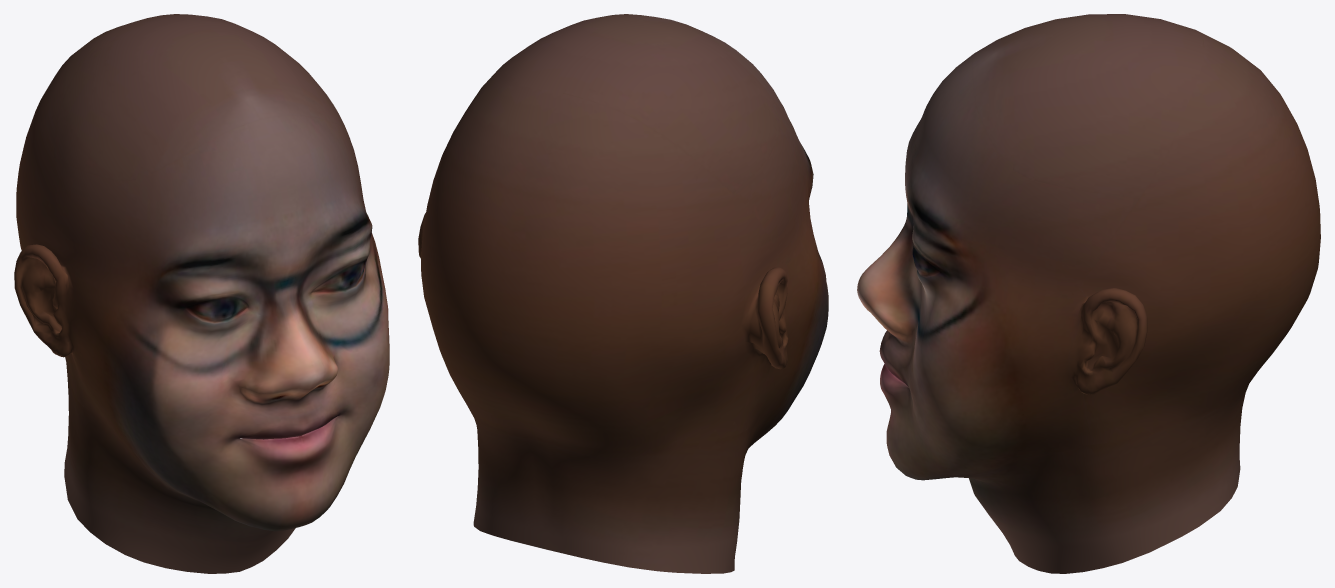
3 renders of one model, left to right at view 1: azimuth 30°, elevation 25°; view 2: azimuth 150°, elevation 25°; view 3: azimuth 270°, elevation 25°, orthographic. The views are drawn at different scales.
Visible parts, largest first — view 1: HeadHires; view 2: HeadHires; view 3: HeadHires.
Part boxes in pixels (box(x1,y1,x2,y2)): HeadHires: box(14, 14, 389, 573); HeadHires: box(418, 14, 828, 573); HeadHires: box(857, 14, 1320, 573).
Bounding box in the file's own units: 193 × 284 × 229.
1 material, 1 textured.
